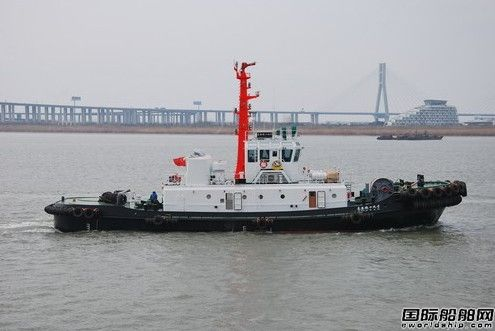otherboat: (40, 57, 462, 240)
